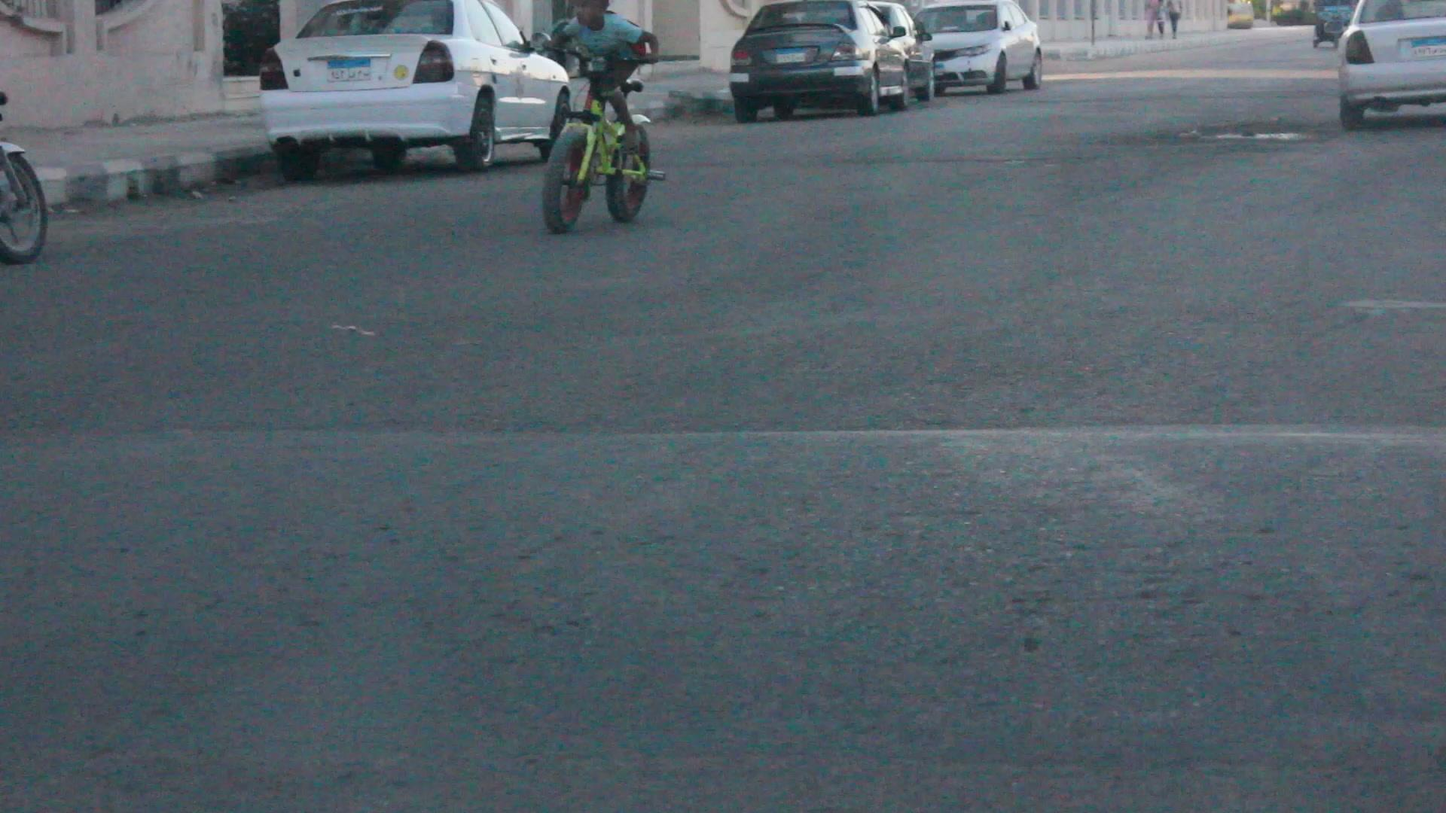Bump: (13, 423, 1446, 757)
